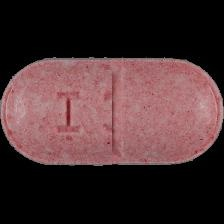66267-102: (0, 0, 224, 224)
